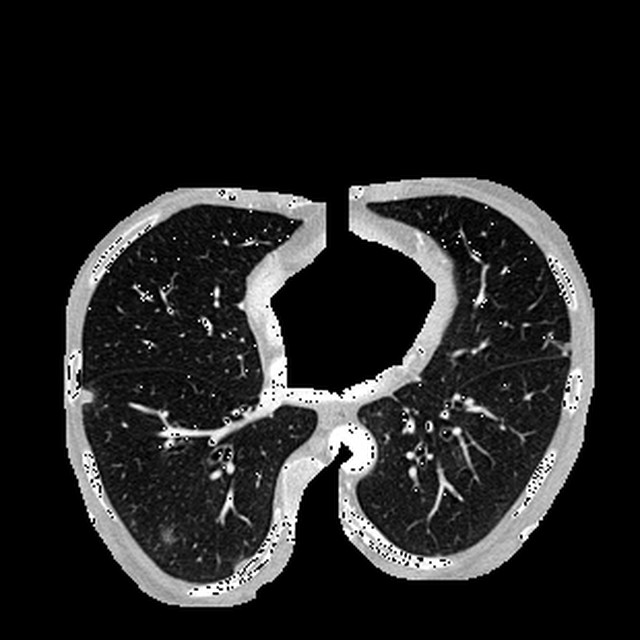PN: (78, 388, 95, 405)
